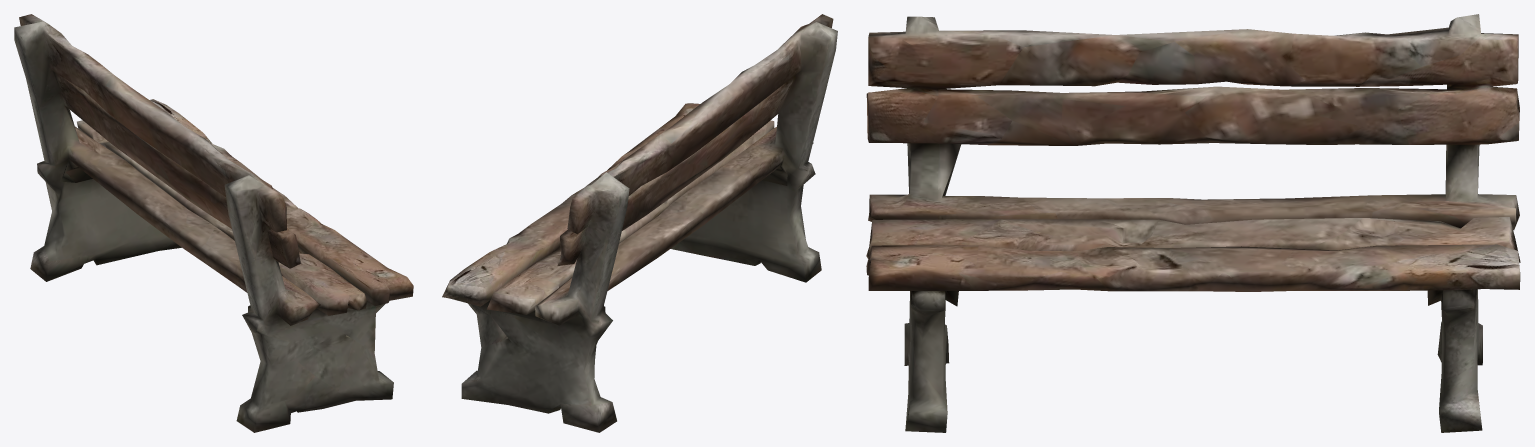
The model's file is e_bench.glb.
3 renders of one model, left to right at view 1: azimuth 30°, elevation 25°; view 2: azimuth 150°, elevation 25°; view 3: azimuth 270°, elevation 25°, orthographic. The views are drawn at different scales.
Parts seen in each view (by area): view 1: tripo_node_56f6221b-ebe9-4451-b4fd-edf61e5194a1; view 2: tripo_node_56f6221b-ebe9-4451-b4fd-edf61e5194a1; view 3: tripo_node_56f6221b-ebe9-4451-b4fd-edf61e5194a1.
Boxes of the visible parts, <box> form: tripo_node_56f6221b-ebe9-4451-b4fd-edf61e5194a1: <box>14,14,413,432</box>; tripo_node_56f6221b-ebe9-4451-b4fd-edf61e5194a1: <box>442,14,837,432</box>; tripo_node_56f6221b-ebe9-4451-b4fd-edf61e5194a1: <box>866,14,1520,432</box>.
Bounding box in the file's own units: 0.3731 × 0.5545 × 1.
Materials: 1 (1 with a texture image).
